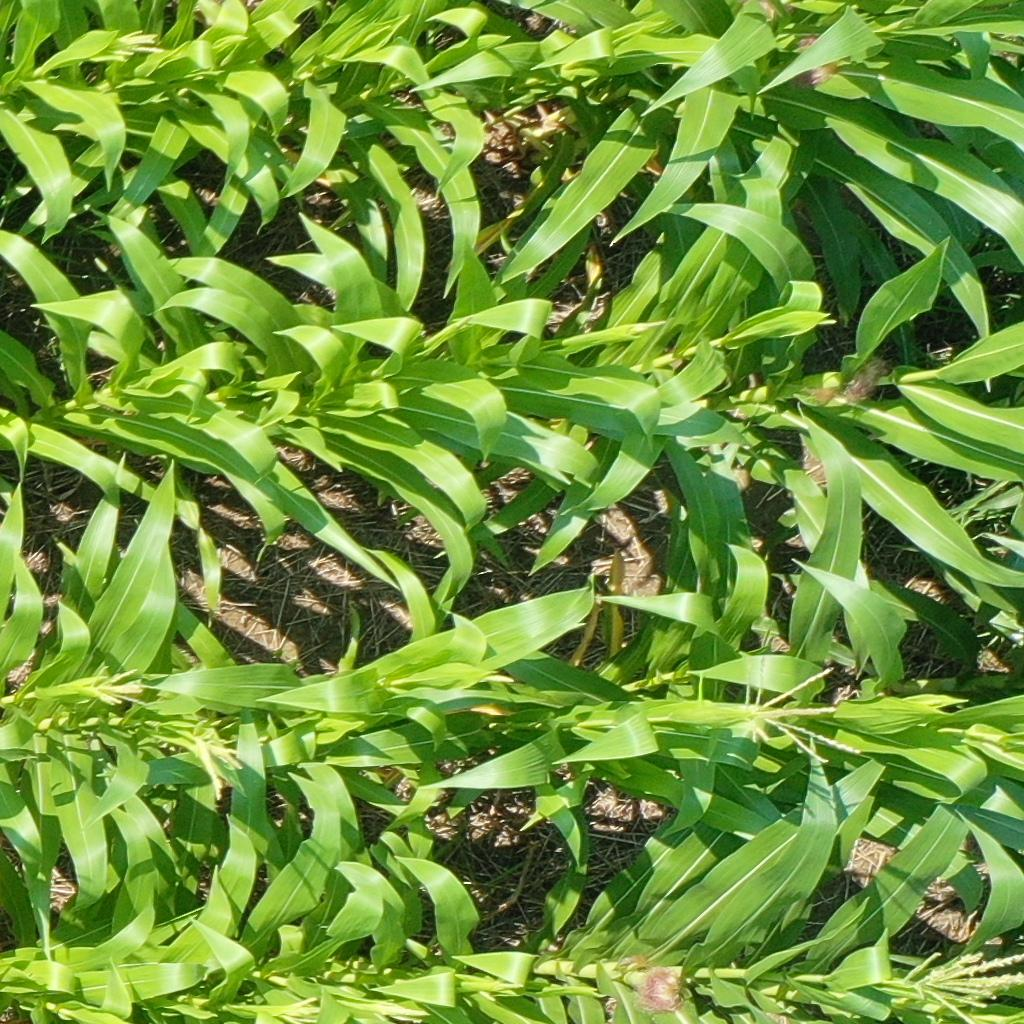Tassel: (730, 635, 861, 770), (897, 947, 1024, 1024), (187, 716, 246, 802), (88, 25, 169, 70), (81, 664, 148, 711), (348, 994, 432, 1024), (266, 989, 327, 1024), (454, 975, 527, 994)
